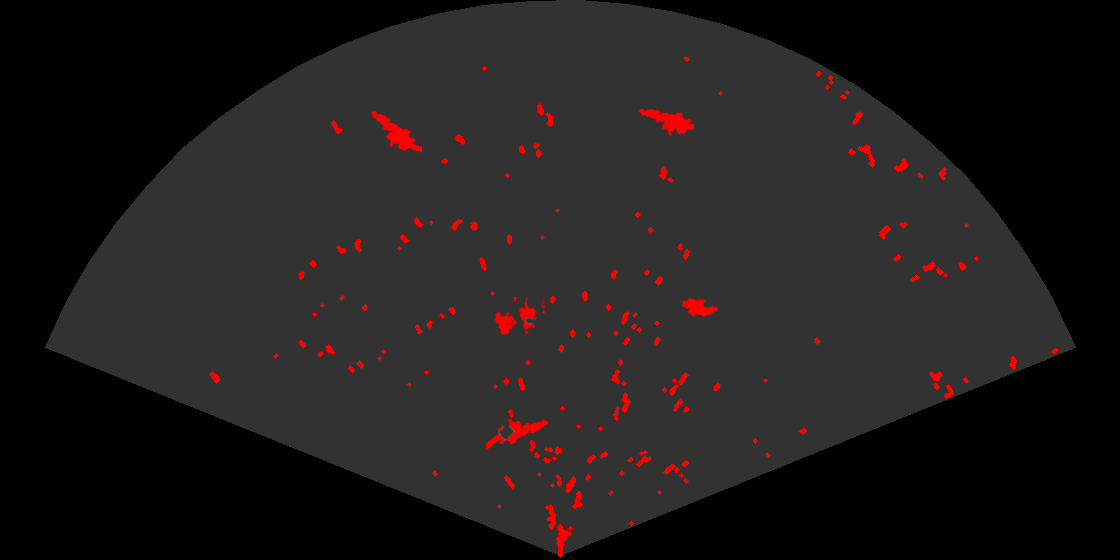AUV: (680, 296, 720, 317)
cage: (493, 297, 545, 337)
frogman: (369, 109, 422, 154), (486, 417, 550, 452), (638, 107, 694, 138)
